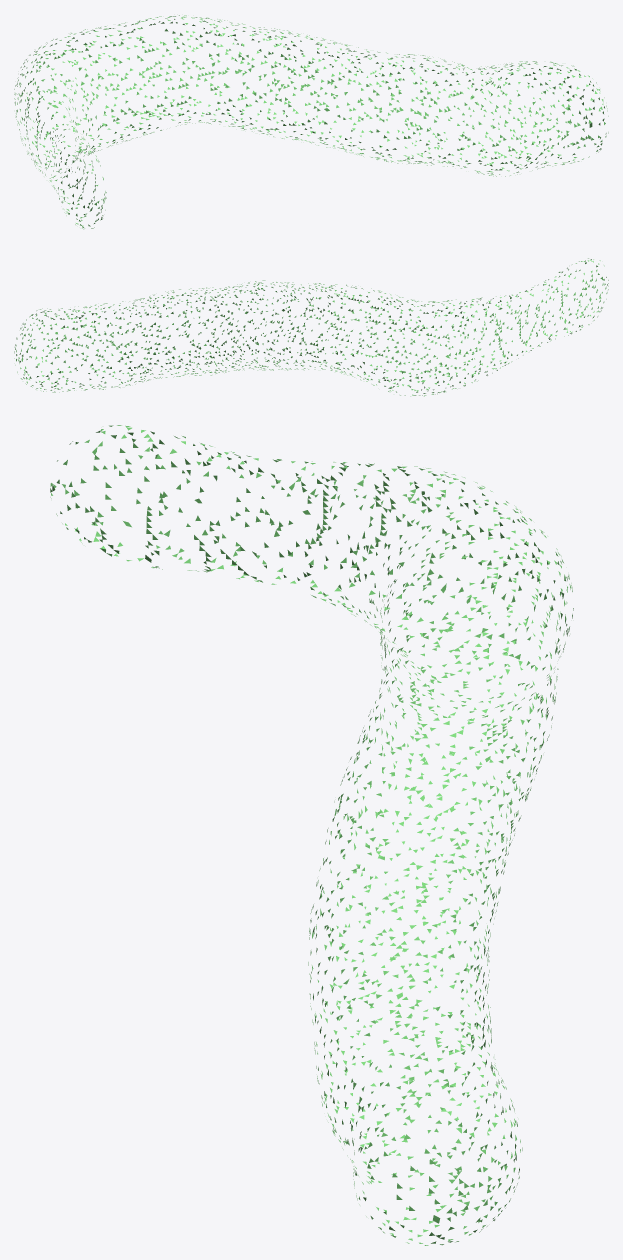
Rendered from morph_017.glb.
3 views of the same model, one above another, from view 1: azimuth 30°, elevation 25°; view 2: azimuth 150°, elevation 25°; view 3: azimuth 270°, elevation 25° (orthographic). The views are drawn at different scales.
Bounding box in the file's own units: 130 × 45.71 × 59.57.
